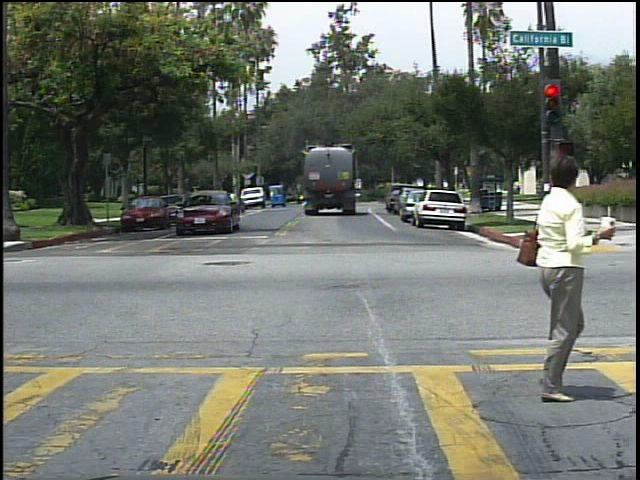person: (493, 135, 613, 408), (512, 180, 525, 199)
